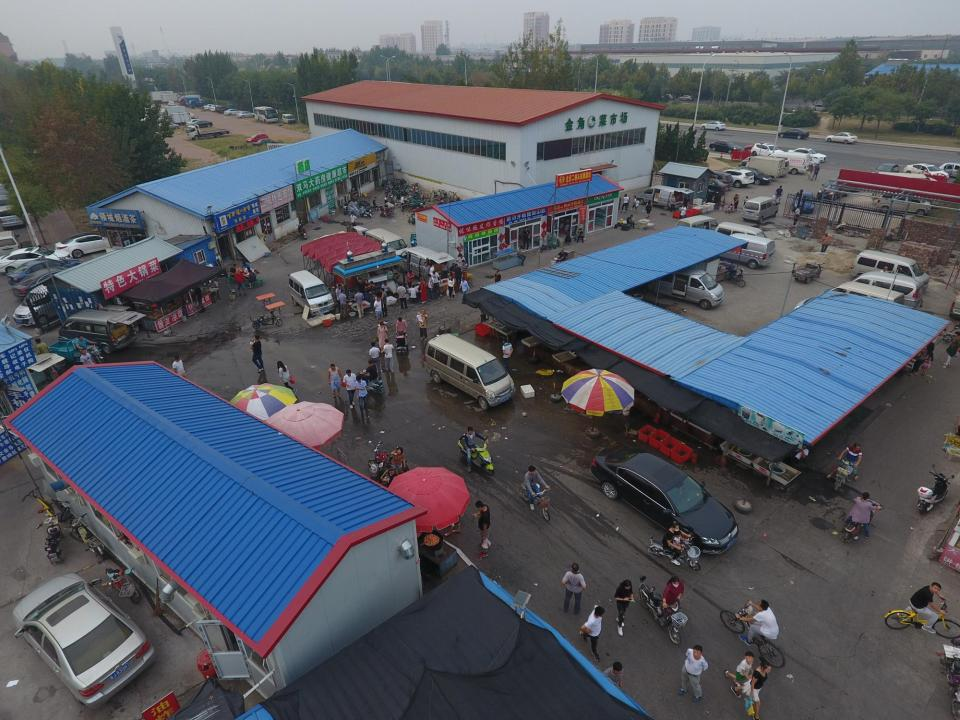bus: (254, 106, 279, 123)
car: (12, 573, 156, 707), (592, 444, 740, 556), (12, 265, 80, 299), (7, 258, 83, 286), (0, 249, 67, 277), (54, 233, 113, 258), (903, 163, 950, 184), (817, 177, 852, 201), (728, 166, 772, 185), (716, 167, 754, 188), (696, 170, 734, 190), (786, 147, 825, 165), (751, 143, 783, 162), (708, 138, 743, 154), (792, 192, 816, 214), (744, 142, 780, 155), (824, 132, 857, 146), (874, 162, 900, 179), (938, 162, 960, 179), (778, 129, 810, 140), (701, 120, 728, 132), (155, 121, 180, 130), (246, 134, 269, 143), (253, 140, 278, 148), (192, 120, 213, 128), (809, 104, 830, 112), (236, 111, 258, 118), (186, 119, 205, 127), (224, 109, 244, 116), (677, 94, 694, 102), (658, 93, 675, 100), (210, 105, 224, 111), (204, 105, 218, 110), (168, 100, 176, 106)
truck: (733, 155, 785, 181), (186, 124, 230, 139), (170, 112, 198, 124), (158, 107, 187, 118), (215, 103, 237, 114), (178, 95, 200, 106), (188, 99, 212, 108)
van: (424, 334, 517, 410), (13, 270, 94, 327), (58, 308, 146, 354), (850, 249, 929, 289), (648, 268, 724, 309), (849, 271, 924, 311), (830, 280, 905, 317), (709, 233, 776, 269), (289, 271, 335, 316), (712, 222, 771, 255), (364, 226, 408, 264), (875, 190, 932, 216), (676, 215, 720, 239), (742, 196, 778, 223), (766, 153, 808, 174), (755, 156, 790, 176), (0, 204, 26, 230), (0, 231, 22, 258), (282, 114, 296, 124)
